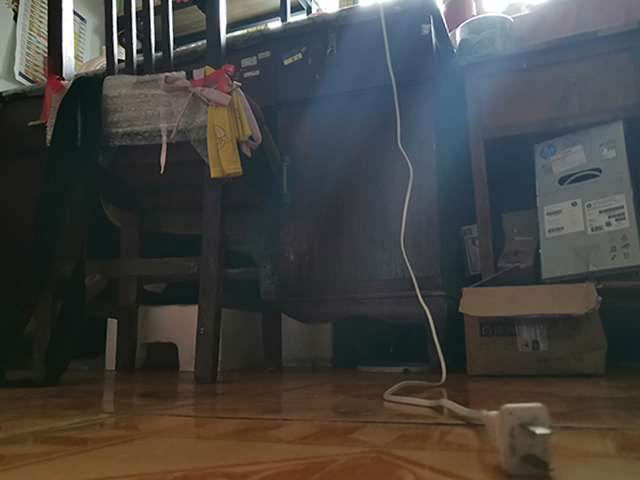stool: (25, 1, 285, 387)
table: (1, 1, 475, 377)
wire: (380, 1, 555, 480)
